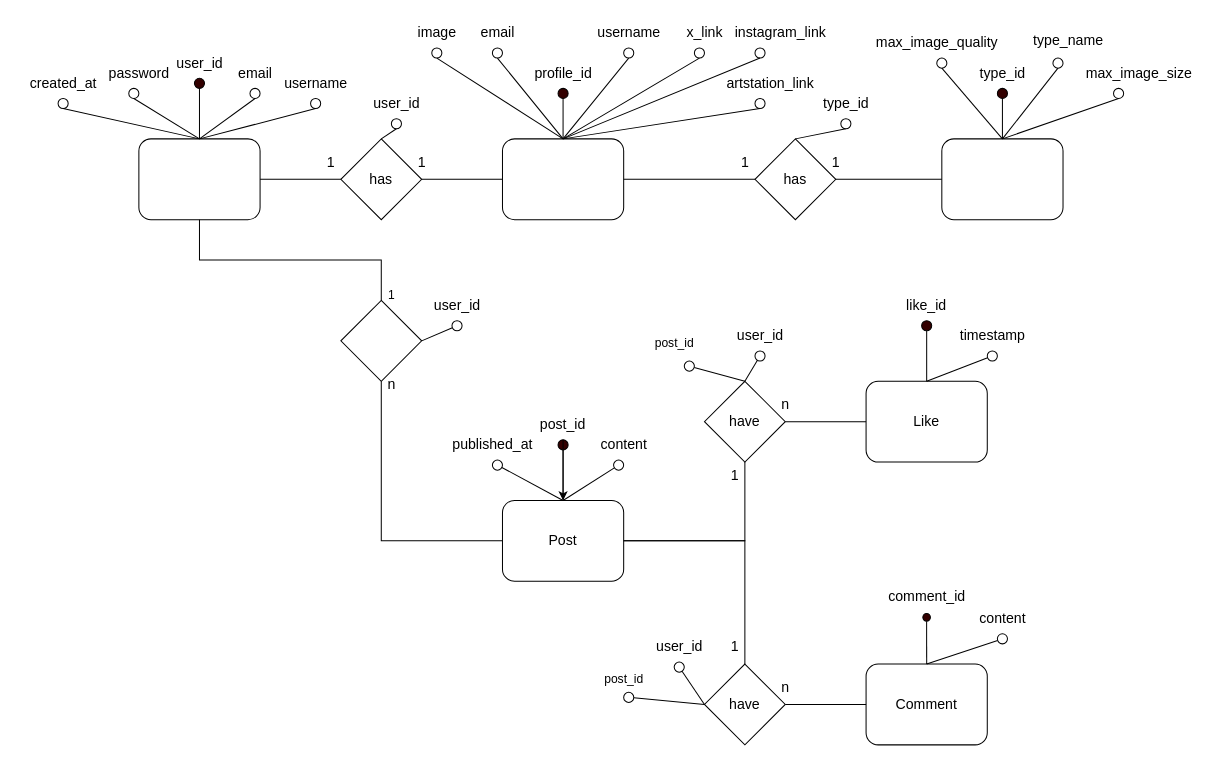
This 1221x763 diagram has some shape labels left out. Each missing label, with the centre of its shape:
"create" belongs at point 381,340.
"user_account" belongs at point 199,179.
"user_profile" belongs at point 562,179.
"user_type" belongs at point 1002,179.
